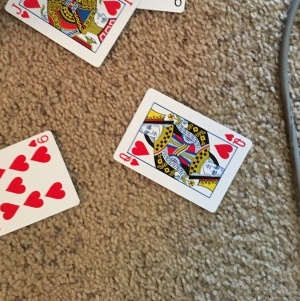card: (111, 87, 254, 214)
